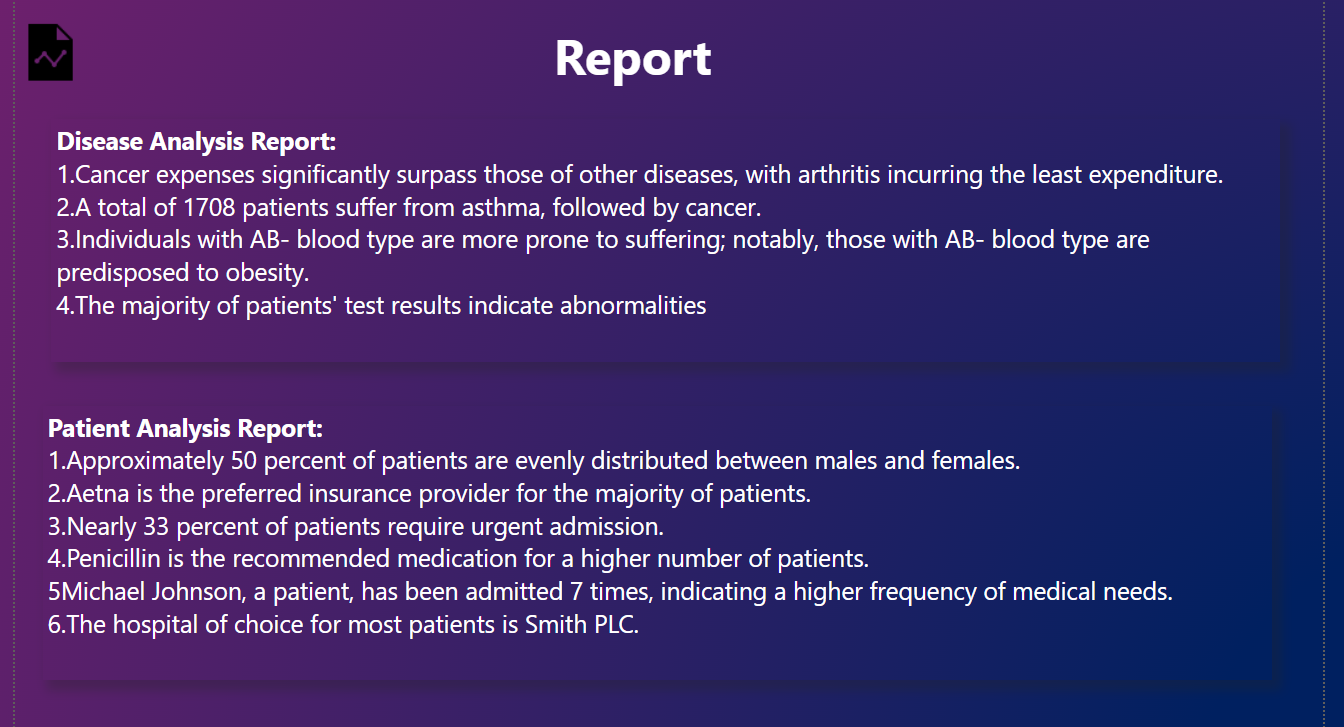

Layout of this report page (visuals, bound fields, positions):
{"tool":"powerbi","page":{"name":"report","canvas":[1280,720],"ordinal":3},"visuals":[{"type":"textbox","box":[34.9,123.3,1202.3,237.2],"z":0},{"type":"textbox","box":[26.7,403.5,1202.3,268.6],"z":1000},{"type":"textbox","box":[522,23.2,187,74.6],"z":2000},{"type":"image","box":[0,23.2,69.7,69.7],"z":3000}]}

Visuals, with their boxes on the page's 1280x720 design canvas (x1, y1, x2, y2). These are canvas units, not pixel positions in the 1344x727 screenshot, which may show the page scaled, cropped or inside an application window:
textbox: pyautogui.locateOnScreen(35, 123, 1237, 360)
textbox: pyautogui.locateOnScreen(27, 404, 1229, 672)
textbox: pyautogui.locateOnScreen(522, 23, 709, 98)
image: pyautogui.locateOnScreen(0, 23, 70, 93)
